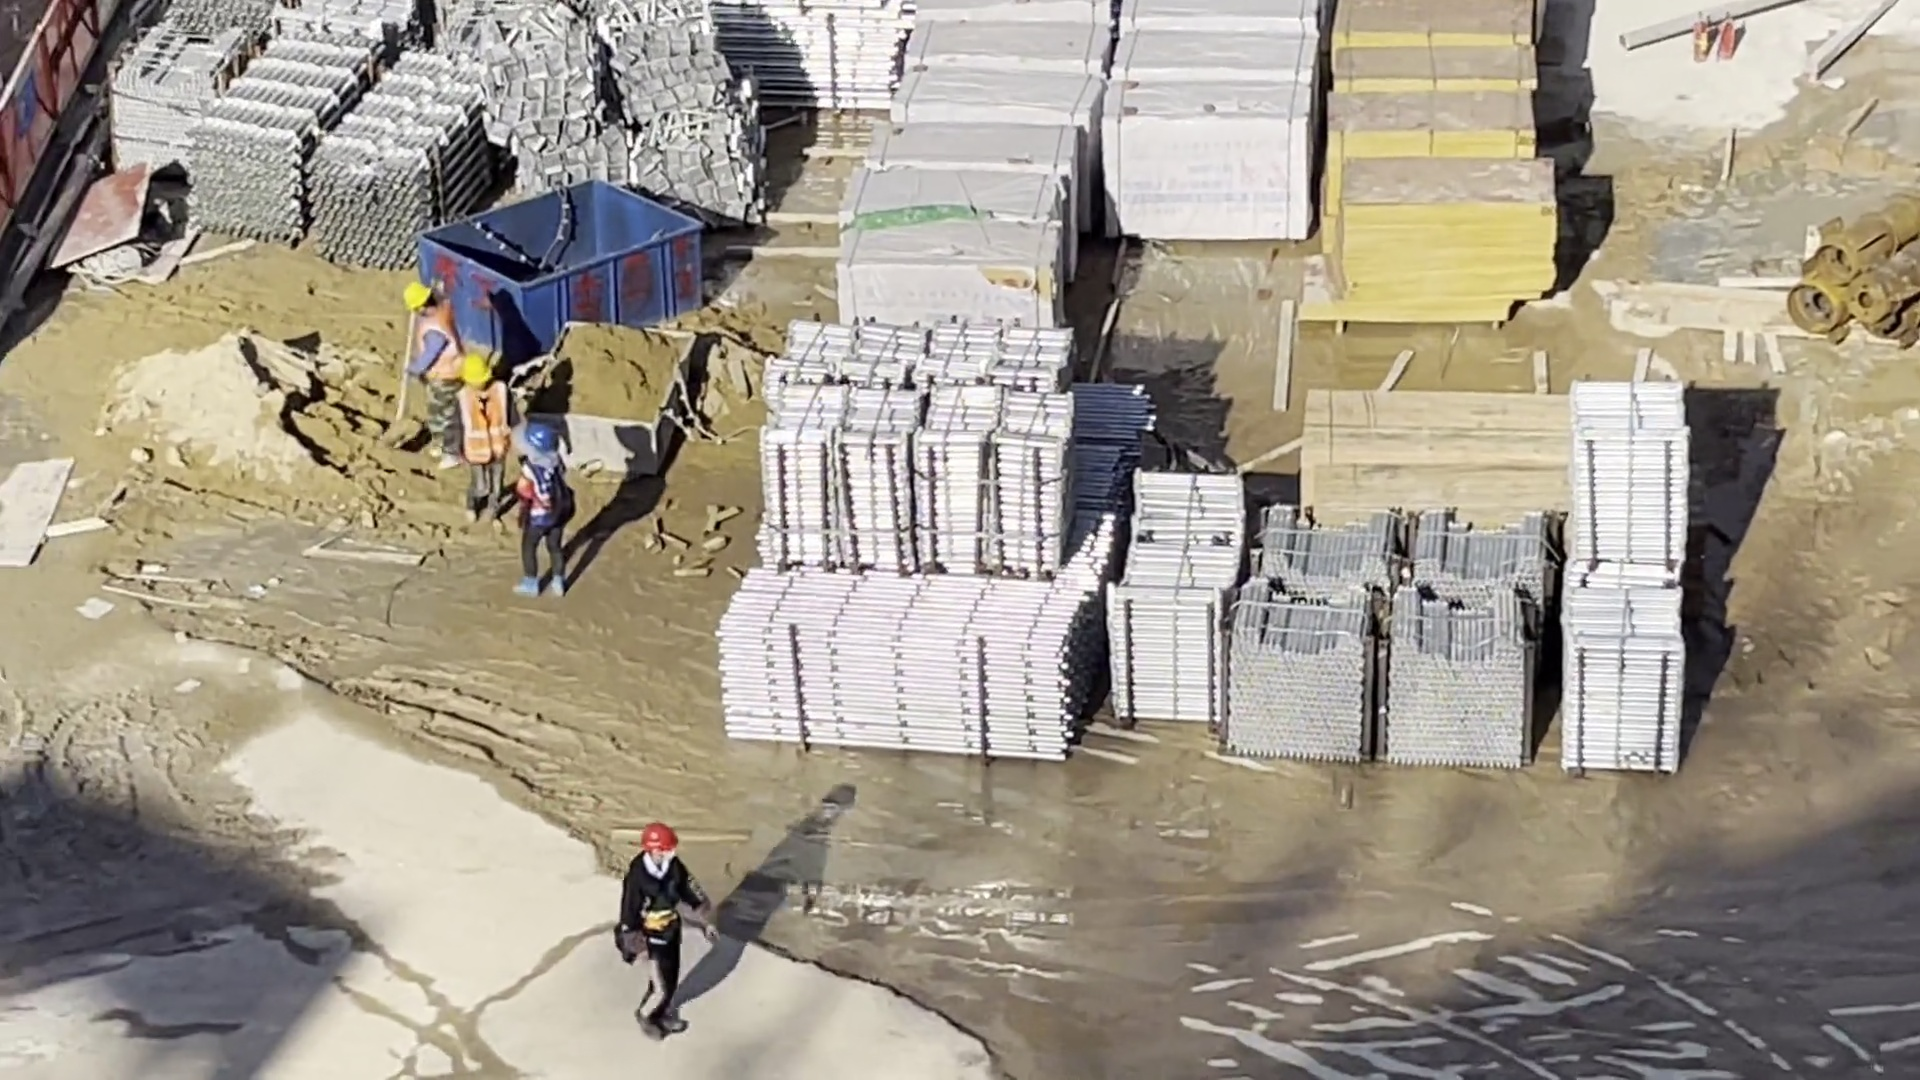board: (1335, 4, 1563, 330), (1302, 385, 1559, 520)
fence: (1, 4, 108, 242)
helmet: (460, 354, 492, 384), (642, 825, 680, 848), (525, 426, 555, 453), (403, 284, 431, 312)
hopper: (416, 184, 701, 354), (543, 320, 698, 479)
person: (628, 827, 705, 1038), (400, 287, 461, 474), (517, 427, 573, 599), (456, 356, 504, 537)
scaffold: (1220, 508, 1558, 761), (763, 315, 1078, 570), (720, 569, 1094, 758), (179, 35, 482, 253), (1563, 385, 1688, 773), (1111, 469, 1246, 726), (711, 1, 902, 110)
slogan: (16, 60, 40, 137)
vest: (458, 385, 508, 458), (419, 312, 459, 381), (519, 472, 565, 530)
